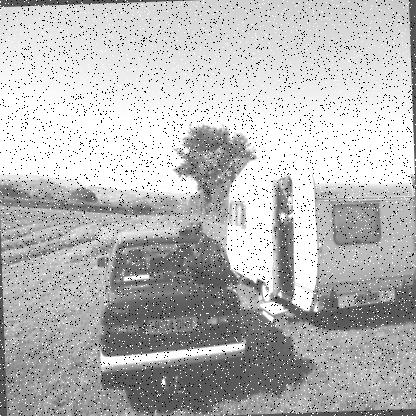Car: (96, 226, 246, 390)
